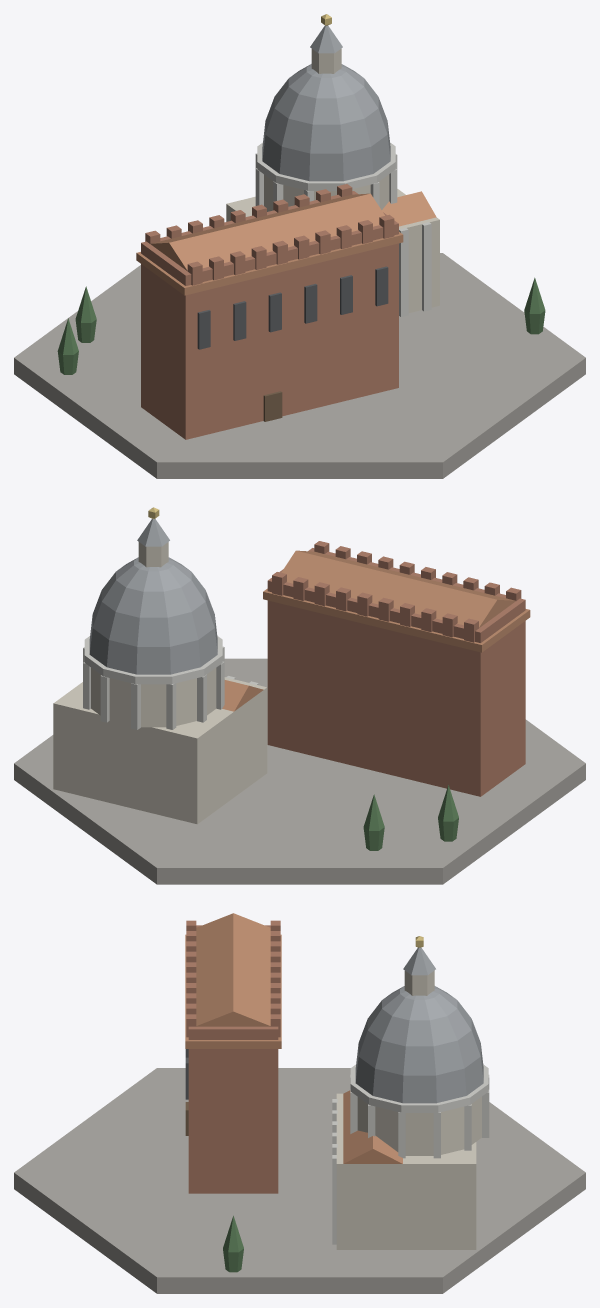
File: sistine-chapel.glb
3 views of the same model, one above another, from view 1: azimuth 30°, elevation 25°; view 2: azimuth 150°, elevation 25°; view 3: azimuth 270°, elevation 25° (orthographic).
Parts seen in each view (by area): view 1: LOD0; view 2: LOD0; view 3: LOD0.
Part boxes in pixels (left/top/right/bottom): LOD0: left=14, top=14, right=585, bottom=478; LOD0: left=14, top=507, right=585, bottom=884; LOD0: left=14, top=913, right=585, bottom=1293.
Size of what is drawn, in the model's own units: 1.49 by 0.98 by 1.72.
